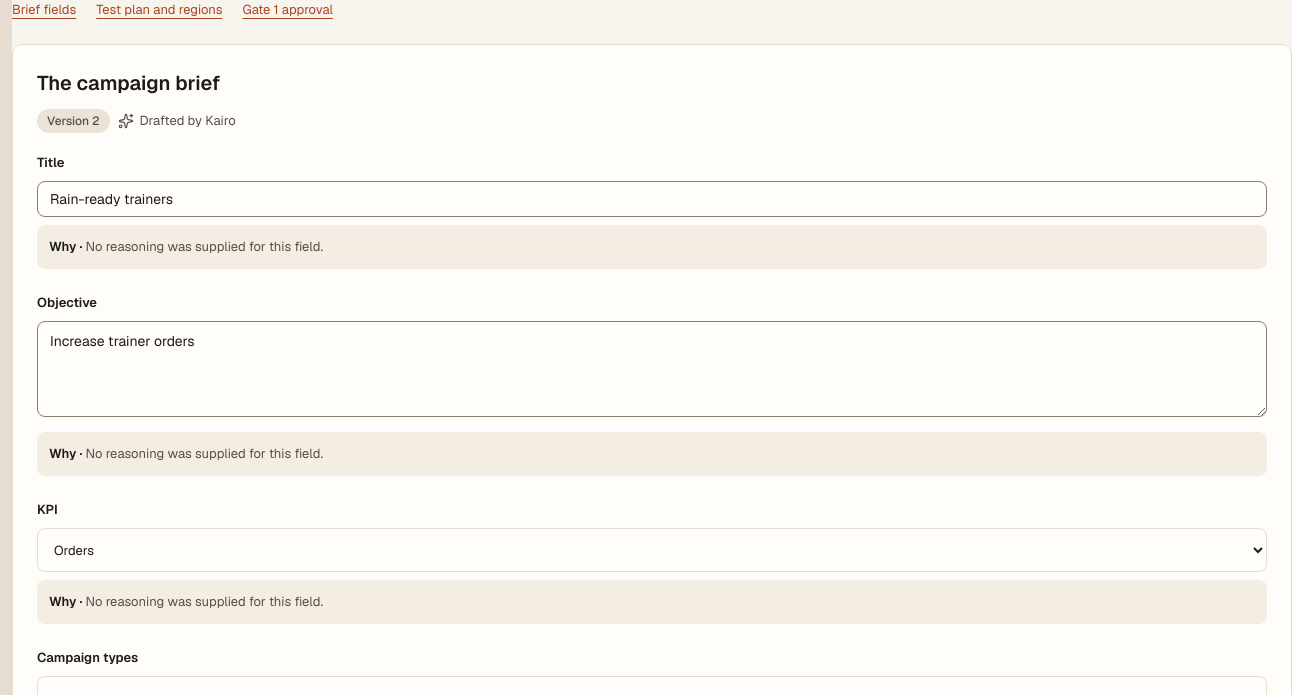
Test case: failed edits retain entered values and focus a linked error summary
The width and height of the screenshot is (1292, 695).
Replace the text in the field labelled "Title" with "My work" at (652, 199), box [37,181,1267,217]
(page scrolled)
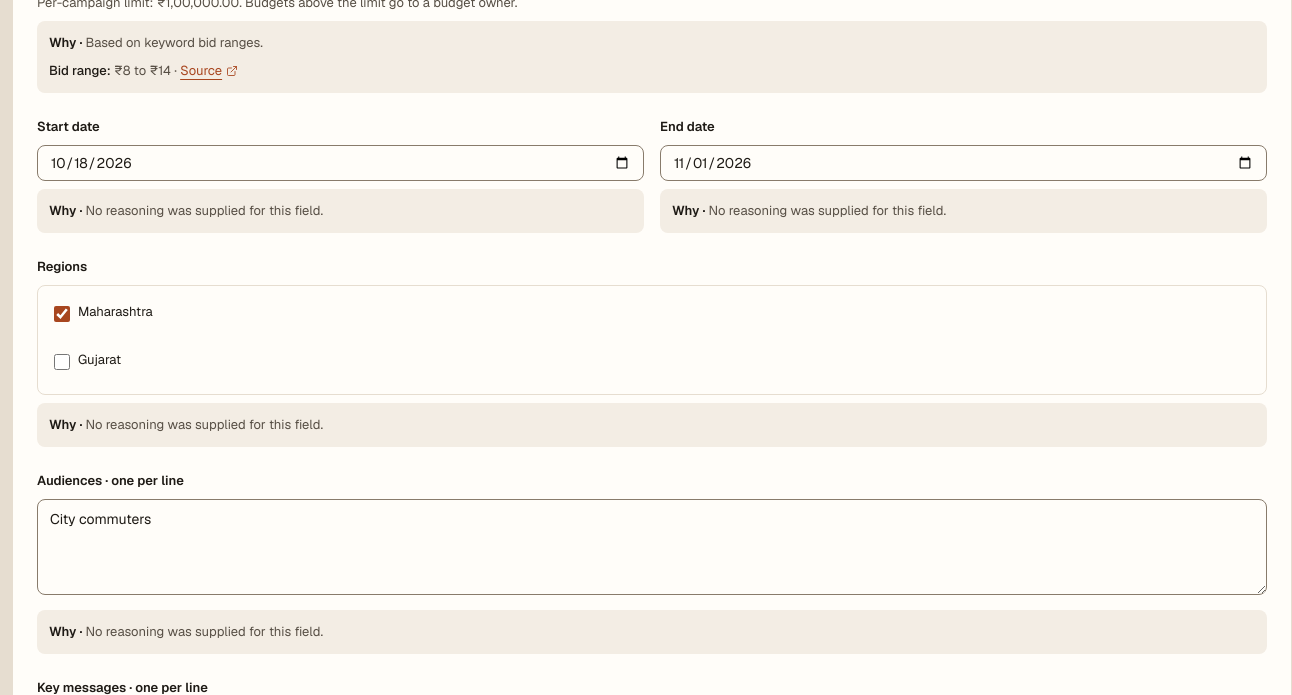
Submit the form named "Save brief"
(page scrolled)
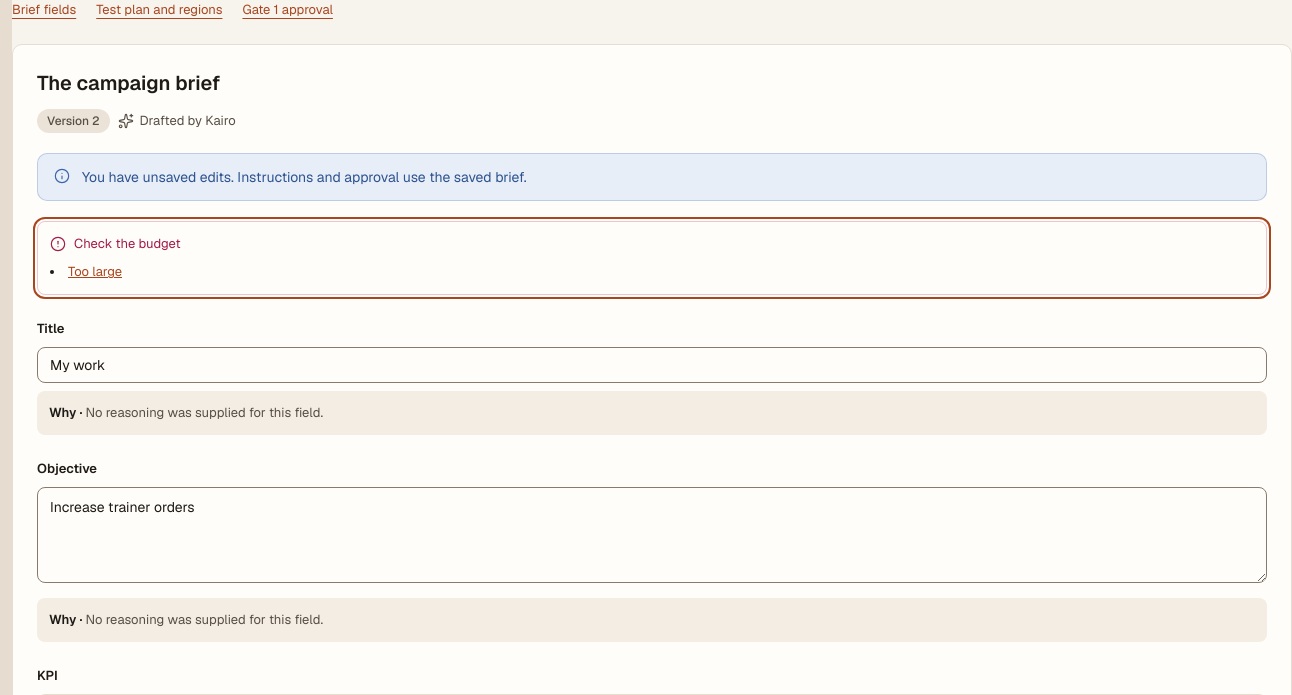
Now the link "Too large" is shown, box [68,263,122,280]
